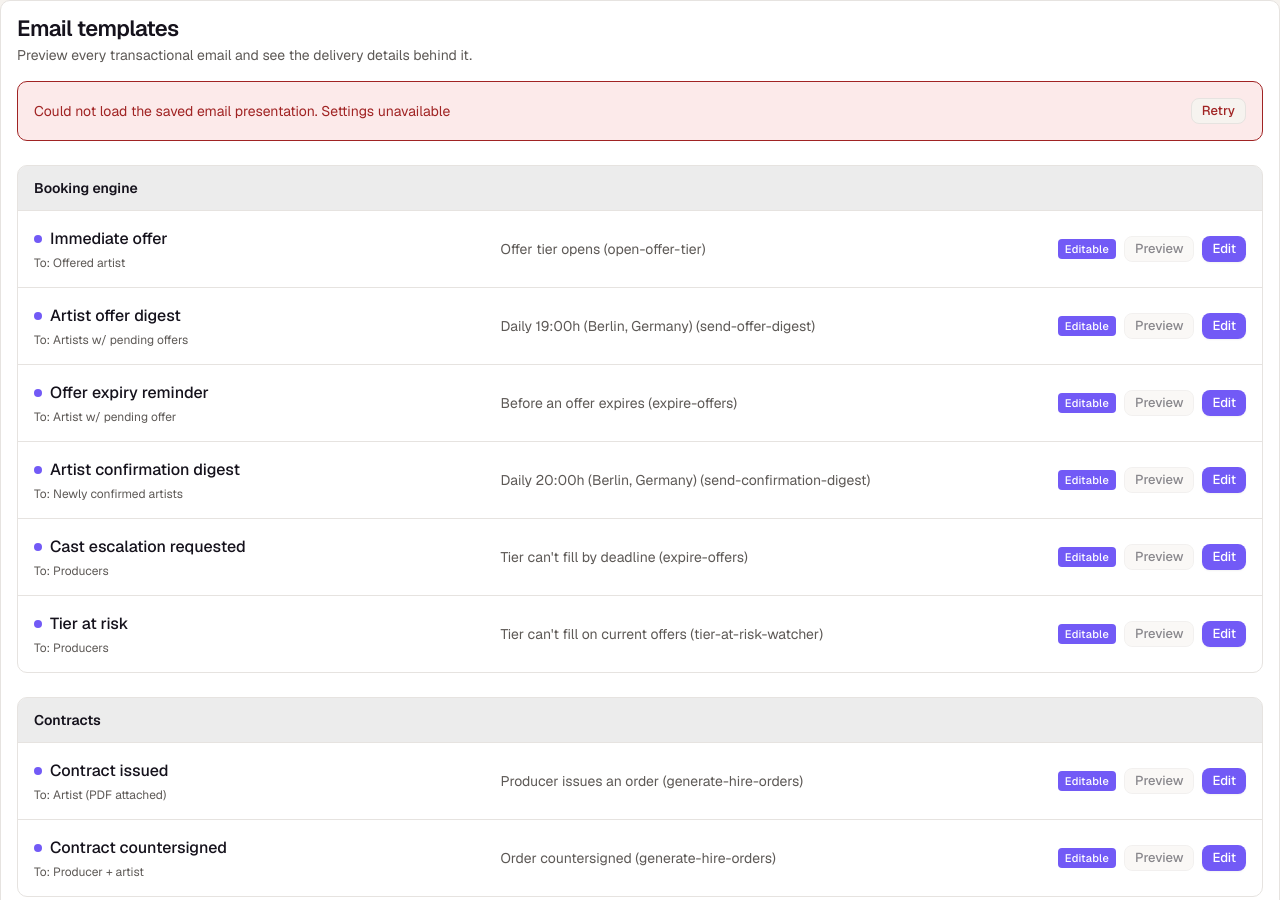
Test case: EmailTemplatesTab › keeps preview disabled after a settings failure and retries the saved presentation read
Later steps or results of the test are not shown.
Expected: the message shows "Could not load the saved email presentation", [34,102,450,120]
Expected: the message shows "Settings unavailable", [34,102,450,120]
Step 1. Click the button "Retry" → click(1218, 111), box [1191,98,1246,124]
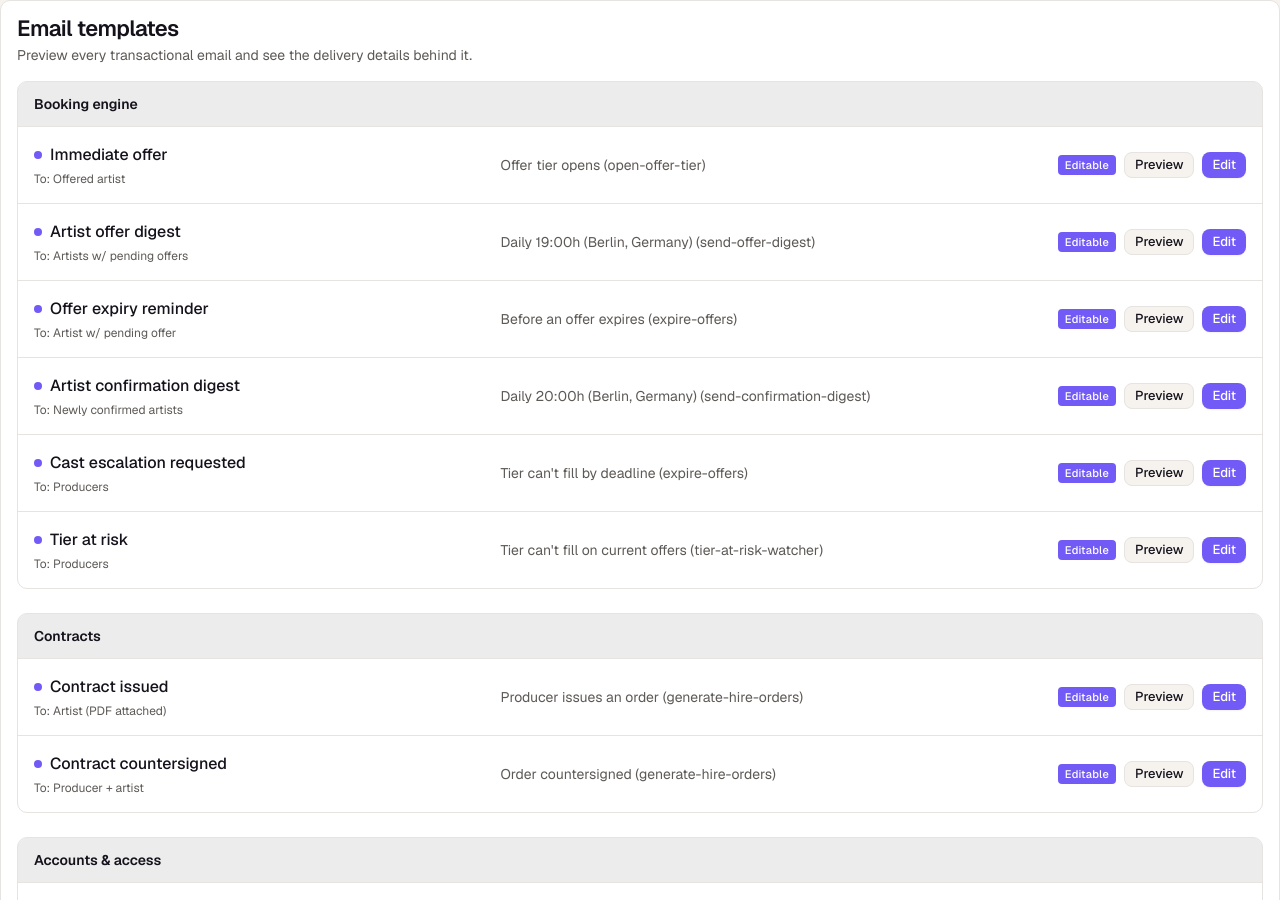
Result: the button with aria-label "preview immediate offer" is enabled at [1124,152,1194,178]
